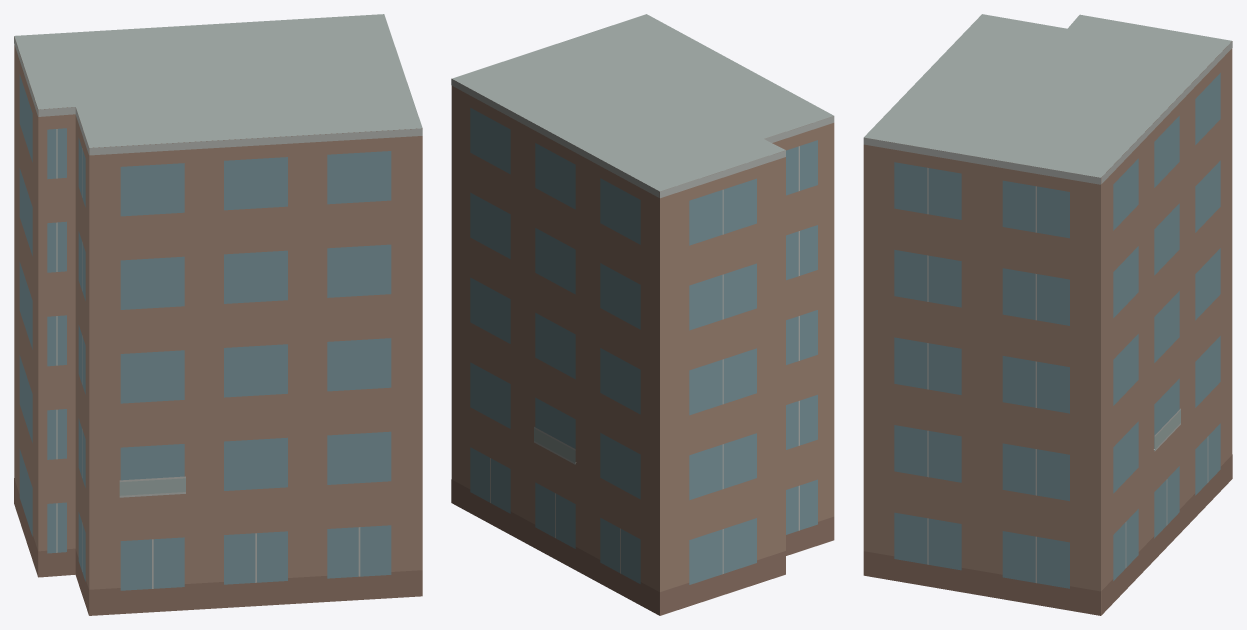
File: survey-upis-32662725.glb
3 views of the same model, side by side, from view 1: azimuth 30°, elevation 25°; view 2: azimuth 150°, elevation 25°; view 3: azimuth 270°, elevation 25° (orthographic). The views are drawn at different scales.
Visible parts, largest first — view 1: survey-upis-32662725.tmp; view 2: survey-upis-32662725.tmp; view 3: survey-upis-32662725.tmp.
Boxes of the visible parts, bbox=[...] form: survey-upis-32662725.tmp: bbox=[14, 14, 422, 615]; survey-upis-32662725.tmp: bbox=[451, 14, 834, 615]; survey-upis-32662725.tmp: bbox=[863, 14, 1232, 615].
Size of the model in its own units: 12.24 by 15.25 by 11.65.
